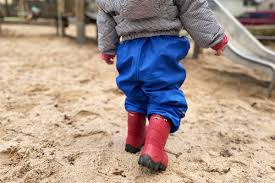child: (94, 1, 227, 177)
